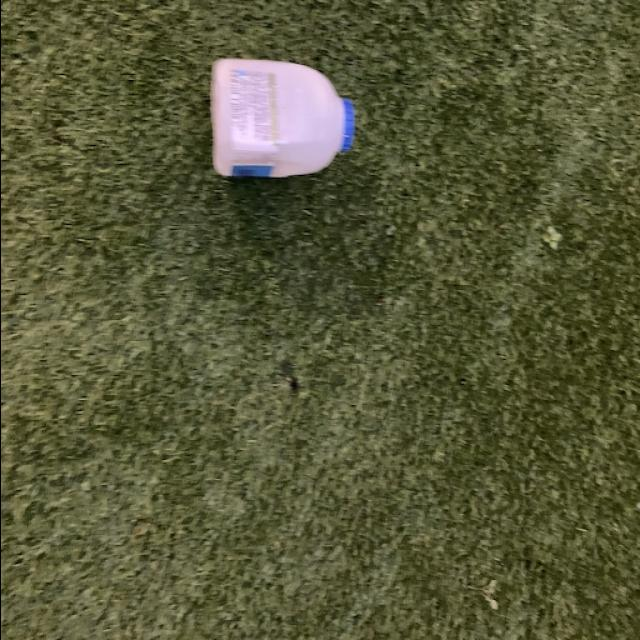HDPEM: (201, 50, 357, 180)
